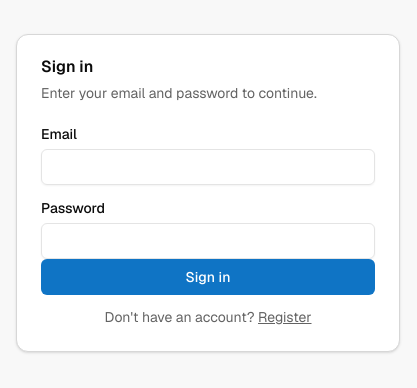
it: login form › shows an error when credentials are rejected
Type "user@example.com" into the field labelled "Email" at (208, 167), box 41,149 -> 375,185
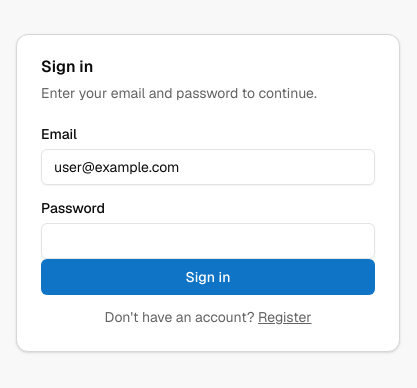
Type "wrong-password" into the password field labelled "Password" at (208, 241), box 41,223 -> 375,259
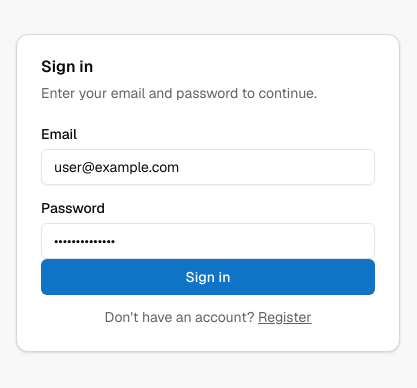
Click the button "Sign in" at (208, 277), box 41,259 -> 375,295
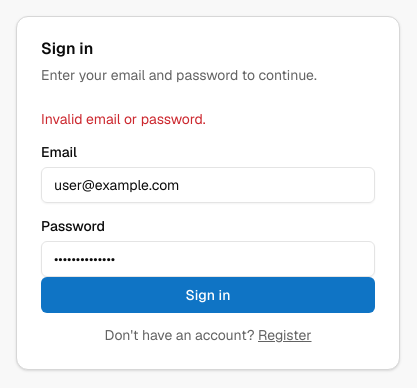
Expected: the message reads "Invalid email or password.", 41,110 -> 206,128
